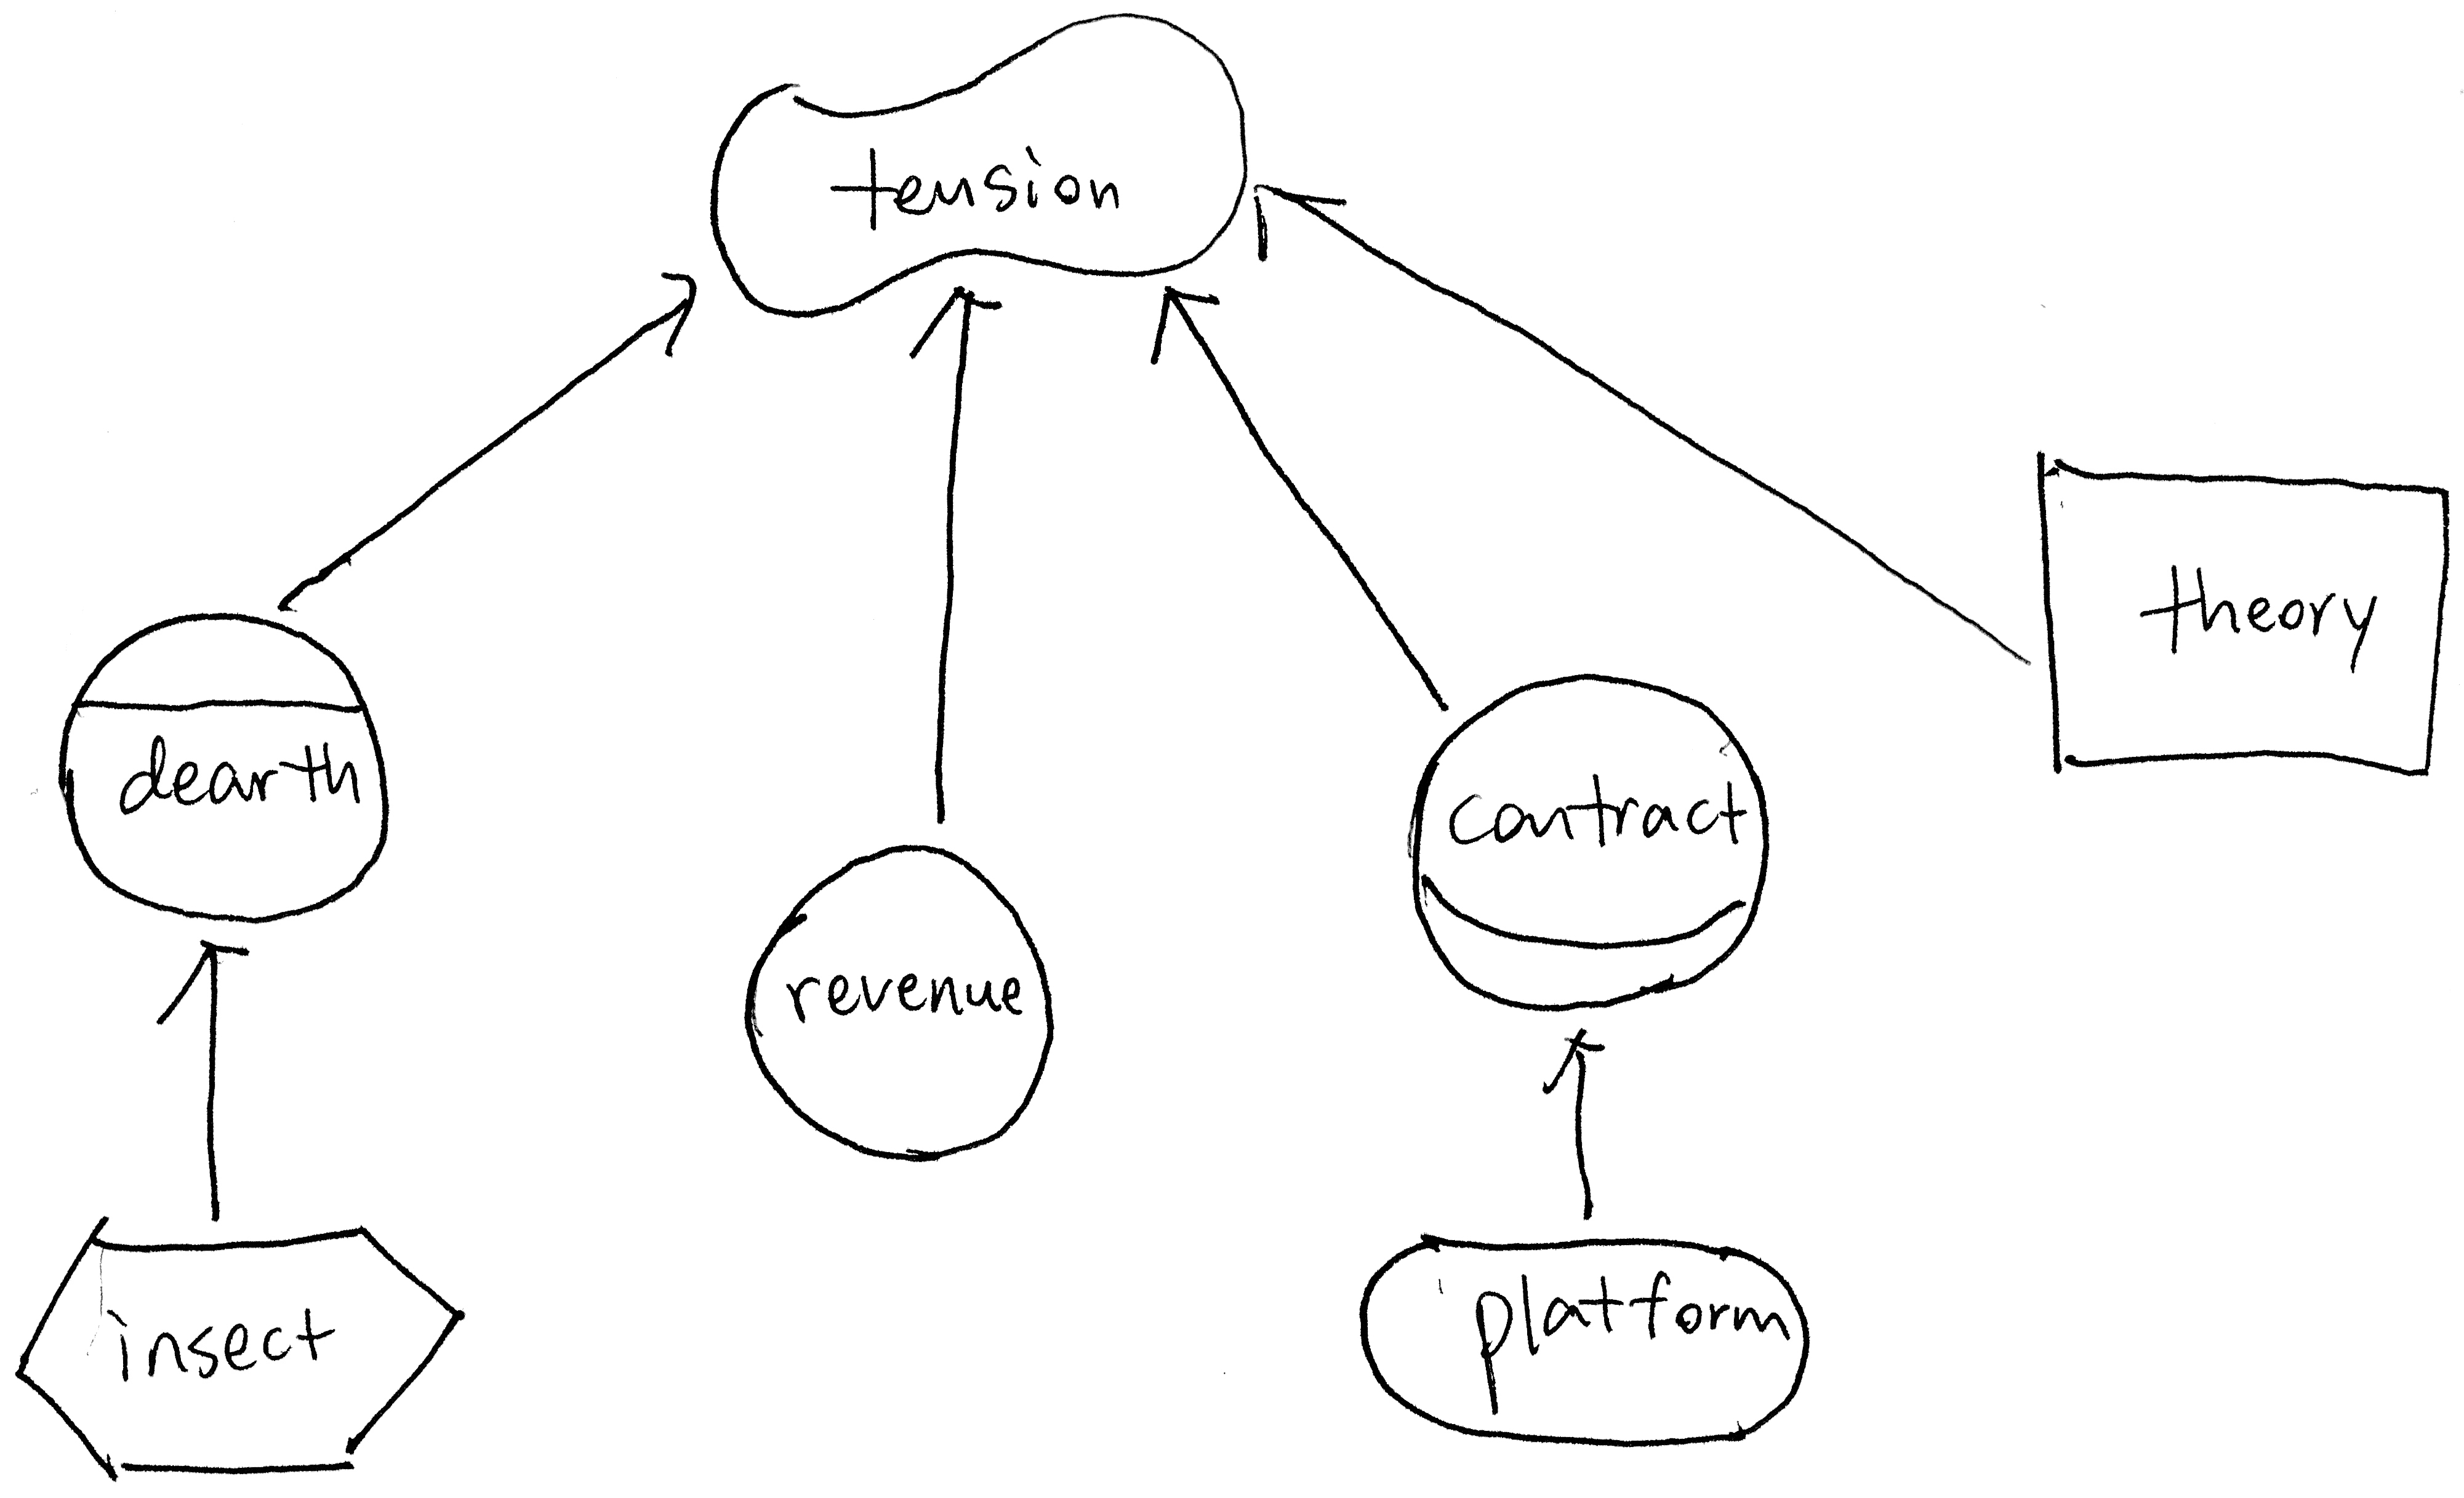actor: (718, 827, 1067, 1185)
agent: (40, 593, 408, 933)
arrow: (898, 268, 1012, 378), (150, 926, 268, 1033), (1241, 164, 1357, 271), (1132, 268, 1237, 373), (1524, 1010, 1623, 1109), (642, 246, 715, 375)
goal: (1339, 1213, 1836, 1479)
quality: (697, 7, 1267, 333)
resource: (2020, 414, 2464, 794)
role: (1375, 660, 1786, 1028)
task: (5, 1199, 489, 1493)
